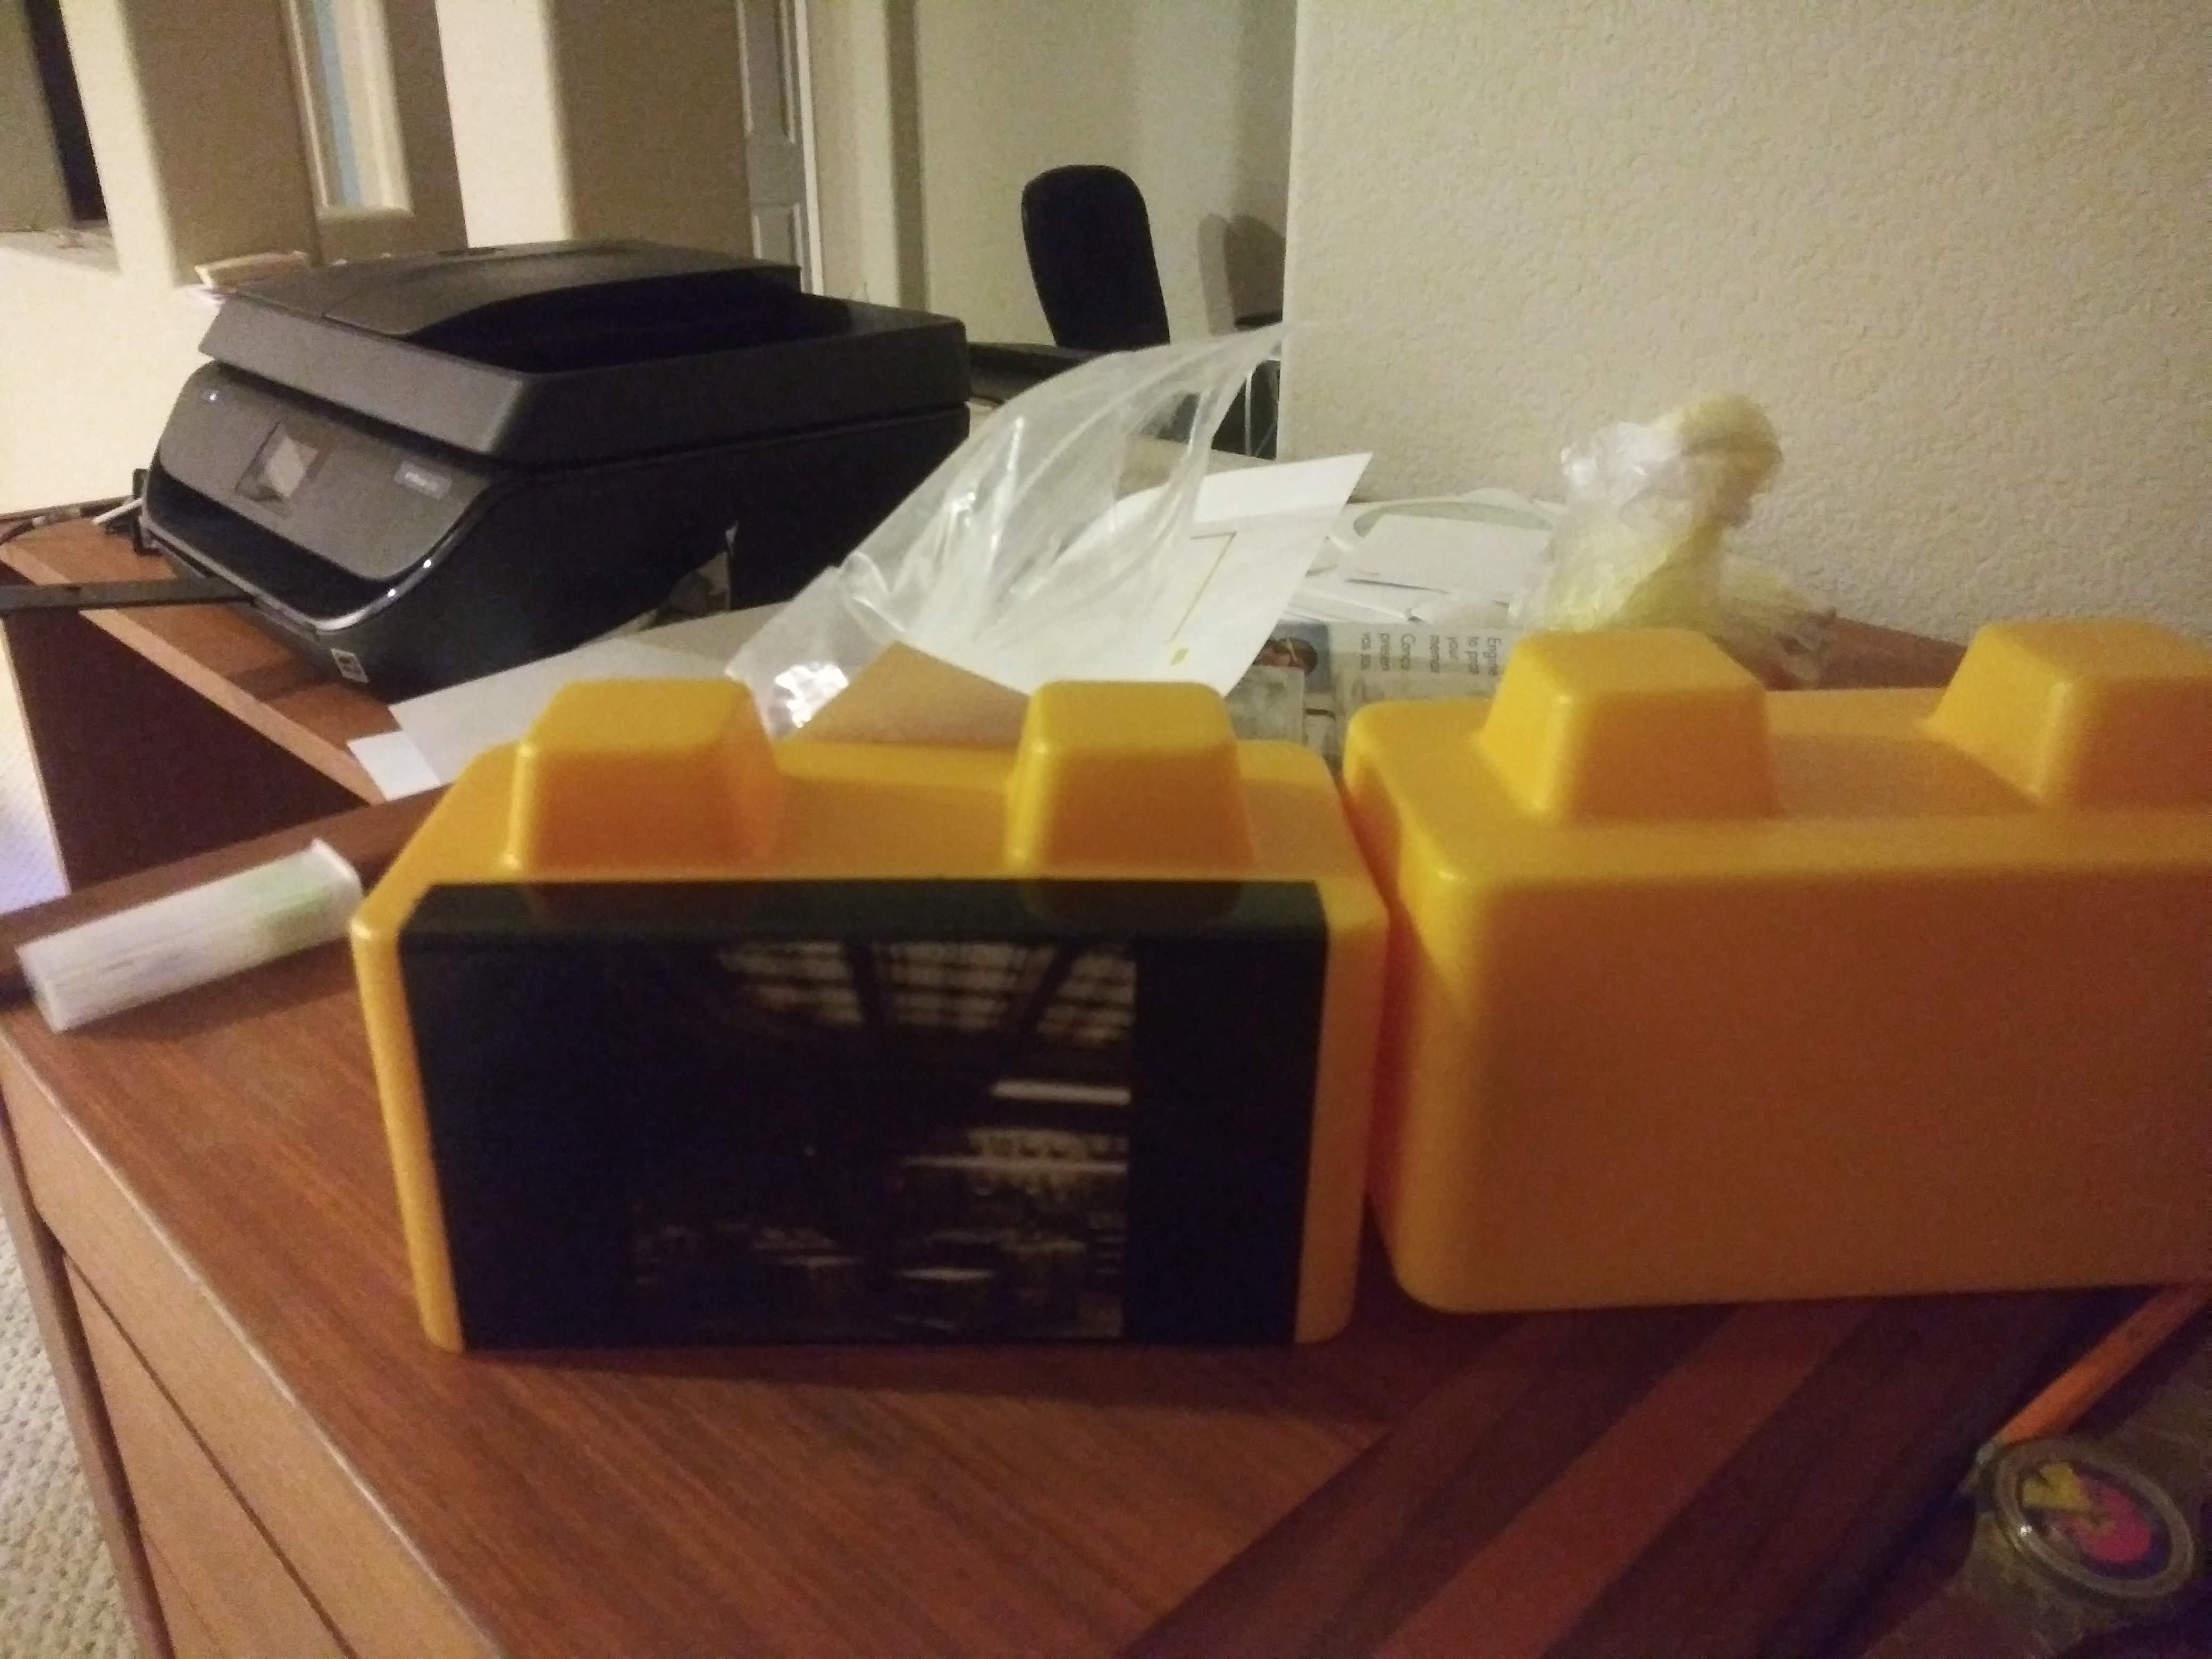skystone: (378, 775, 1346, 1361)
stone: (1423, 713, 2203, 1270)
